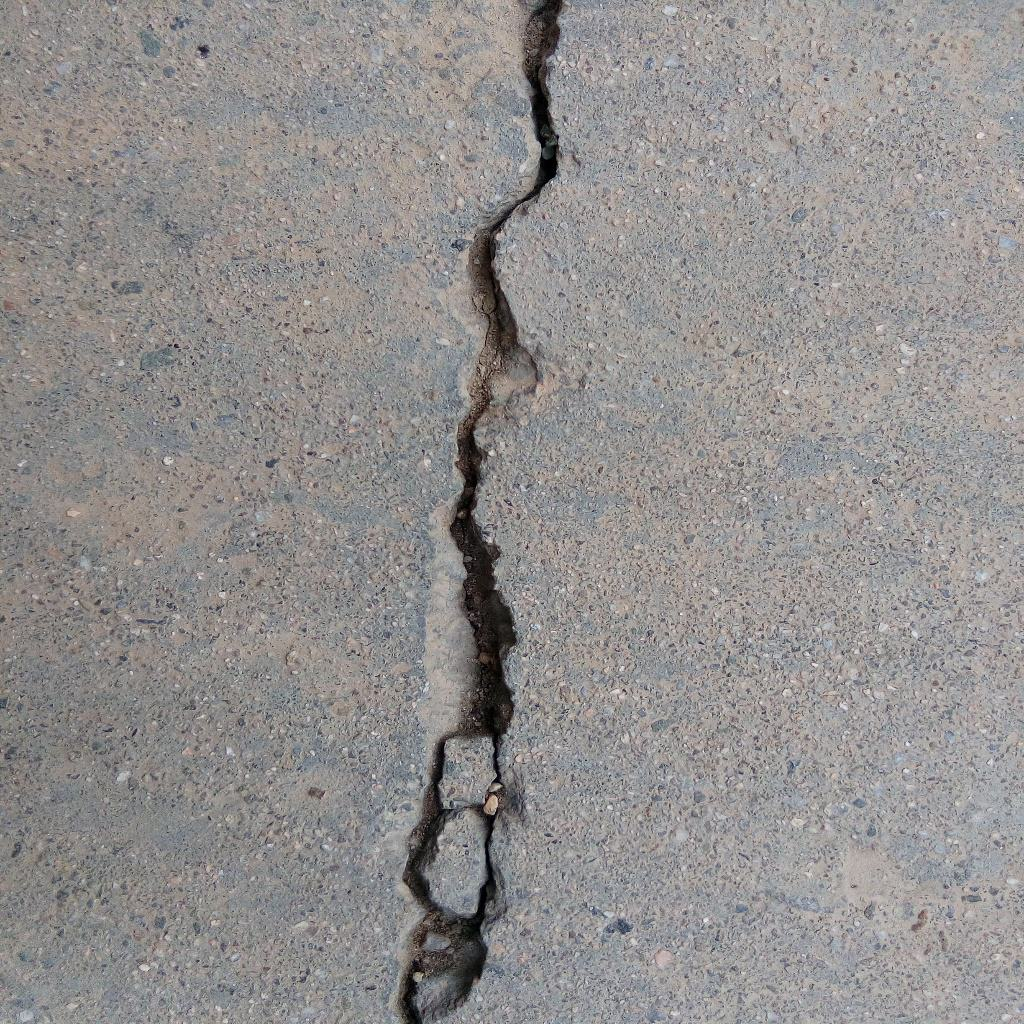Crack: (389, 1, 568, 1024)
